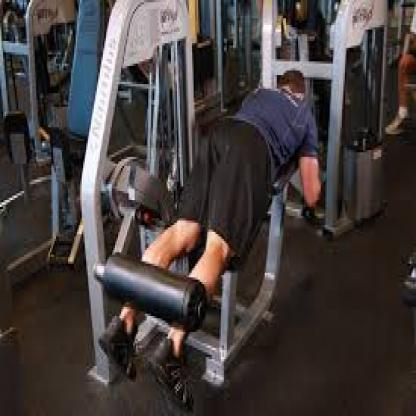reg curl machine: (76, 0, 325, 407)
